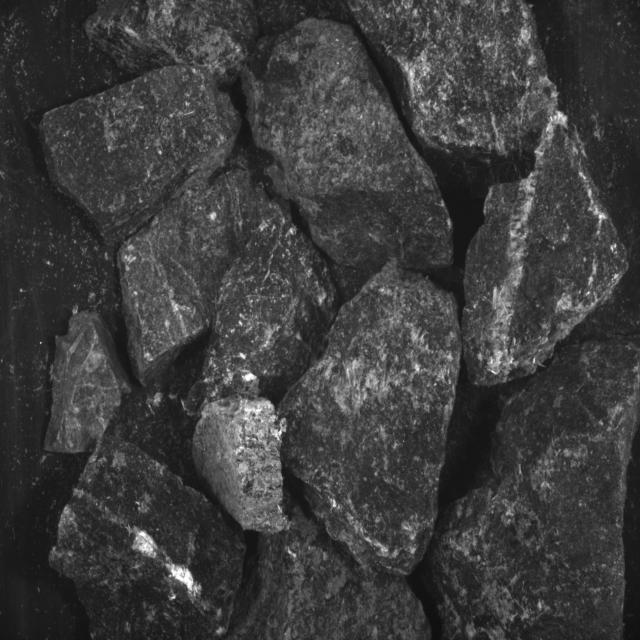Stones: (426, 341, 640, 640), (280, 265, 462, 575), (244, 20, 454, 270), (51, 392, 246, 639), (464, 113, 629, 387), (349, 1, 559, 197), (41, 67, 241, 246), (119, 170, 277, 385), (187, 216, 339, 414), (229, 504, 432, 640), (86, 1, 260, 86), (194, 397, 289, 534), (45, 313, 132, 453)
